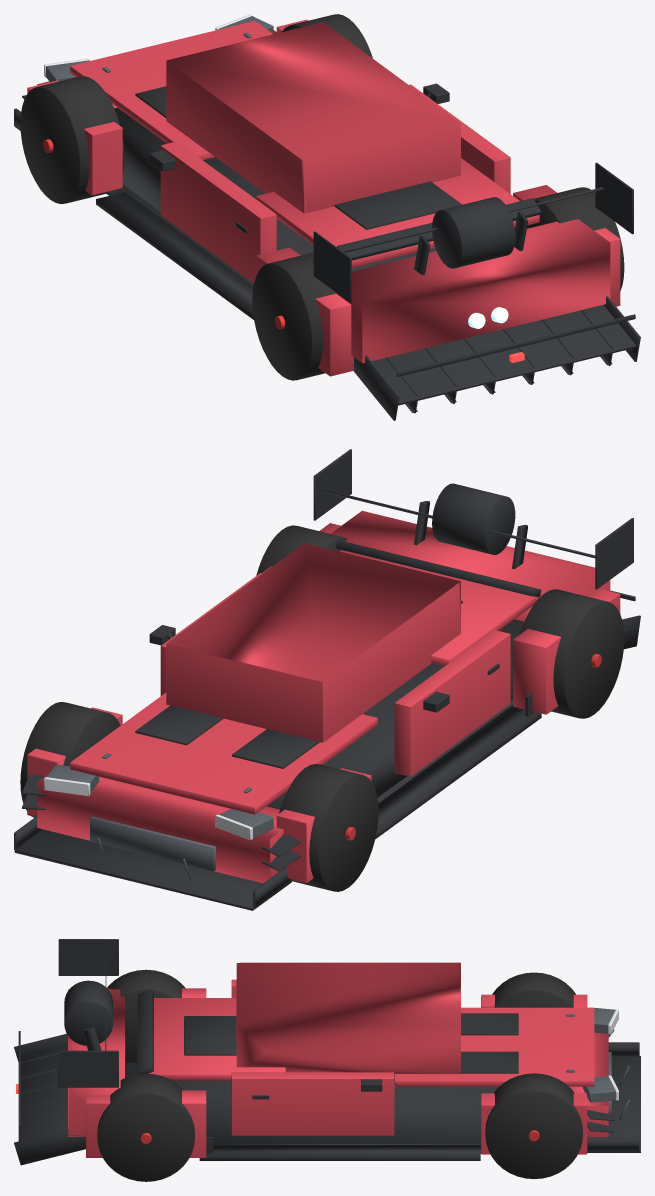
The model's file is modular_gt3_apex.glb.
3 views of the same model, one above another, from view 1: azimuth 30°, elevation 25°; view 2: azimuth 150°, elevation 25°; view 3: azimuth 270°, elevation 25° (orthographic). The views are drawn at different scales.
Parts seen in each view (by area): view 1: Greenhouse_Roof_Canopy, Rear_Bumper_Fascia, Diffuser_Curved_Ramp, Door_Main_Skin_Left, Tire_Slick_Rubber_FL, Tire_Slick_Rubber_RL, Bonnet_Hood_Skin, Dicky_Engine_Cover_Skin, Side_Skirts_Left, Wing_Main_Aerofoil, Chassis_Carbon_Monocoque, Dicky_Cooling_Louvers (+14 smaller); view 2: Greenhouse_Roof_Canopy, Bonnet_Hood_Skin, Front_Bumper_Fascia, Door_Main_Skin_Left, Tire_Slick_Rubber_RL, Tire_Slick_Rubber_FL, Rear_Bumper_Fascia, Front_Splitter_Tray, Side_Skirts_Left, Chassis_Carbon_Monocoque, Wing_Main_Aerofoil, Dicky_Engine_Cover_Skin (+15 smaller); view 3: Greenhouse_Roof_Canopy, Door_Main_Skin_Right, Chassis_Carbon_Monocoque, Bonnet_Hood_Skin, Tire_Slick_Rubber_RR, Tire_Slick_Rubber_FR, Dicky_Engine_Cover_Skin, Side_Skirts_Right, Diffuser_Curved_Ramp, Wing_Main_Aerofoil, Rear_Bumper_Fascia, Tire_Slick_Rubber_RL (+19 smaller).
Part boxes in pixels (x1,y1,x2,y2): Greenhouse_Roof_Canopy: (166,22,460,213); Rear_Bumper_Fascia: (336,219,610,363); Diffuser_Curved_Ramp: (357,305,636,405); Door_Main_Skin_Left: (160,141,276,283); Tire_Slick_Rubber_FL: (20,76,124,203); Tire_Slick_Rubber_RL: (252,252,335,380); Bonnet_Hood_Skin: (70,21,272,159); Dicky_Engine_Cover_Skin: (256,158,539,267); Side_Skirts_Left: (96,192,253,319); Wing_Main_Aerofoil: (432,197,515,268); Chassis_Carbon_Monocoque: (114,107,436,271); Dicky_Cooling_Louvers: (334,181,462,229); Greenhouse_Roof_Canopy: (166,543,460,742); Bonnet_Hood_Skin: (70,692,377,814); Front_Bumper_Fascia: (37,774,283,883); Door_Main_Skin_Left: (394,630,510,776); Tire_Slick_Rubber_RL: (520,589,624,718); Tire_Slick_Rubber_FL: (279,764,378,891); Rear_Bumper_Fascia: (330,510,610,621); Front_Splitter_Tray: (14,829,291,910); Side_Skirts_Left: (375,705,541,838); Chassis_Carbon_Monocoque: (266,619,523,809); Wing_Main_Aerofoil: (432,483,515,554); Dicky_Engine_Cover_Skin: (340,550,539,665); Greenhouse_Roof_Canopy: (236,962,460,1073); Door_Main_Skin_Right: (231,1072,394,1135); Chassis_Carbon_Monocoque: (173,1074,498,1143); Bonnet_Hood_Skin: (394,1007,594,1086); Tire_Slick_Rubber_RR: (97,1073,194,1181); Tire_Slick_Rubber_FR: (485,1073,582,1179); Dicky_Engine_Cover_Skin: (148,998,285,1080); Side_Skirts_Right: (199,1145,480,1160); Diffuser_Curved_Ramp: (18,1043,80,1152); Wing_Main_Aerofoil: (64,980,112,1045); Rear_Bumper_Fascia: (68,989,125,1136); Tire_Slick_Rubber_RL: (107,969,185,1062).
Bounding box in the file's own units: 2.09 × 0.9897 × 4.36.
